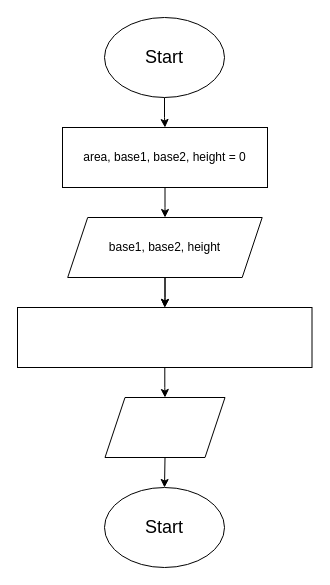
The diagram is 330 pixels wide and 585 high, and some of its shapes have lost their labels. The centre of each missing label's shape, as x and y in pixels:
"area" belongs at (164,427).
"area = 1 / 2 * (base1 + base2) * height" belongs at (164,337).
